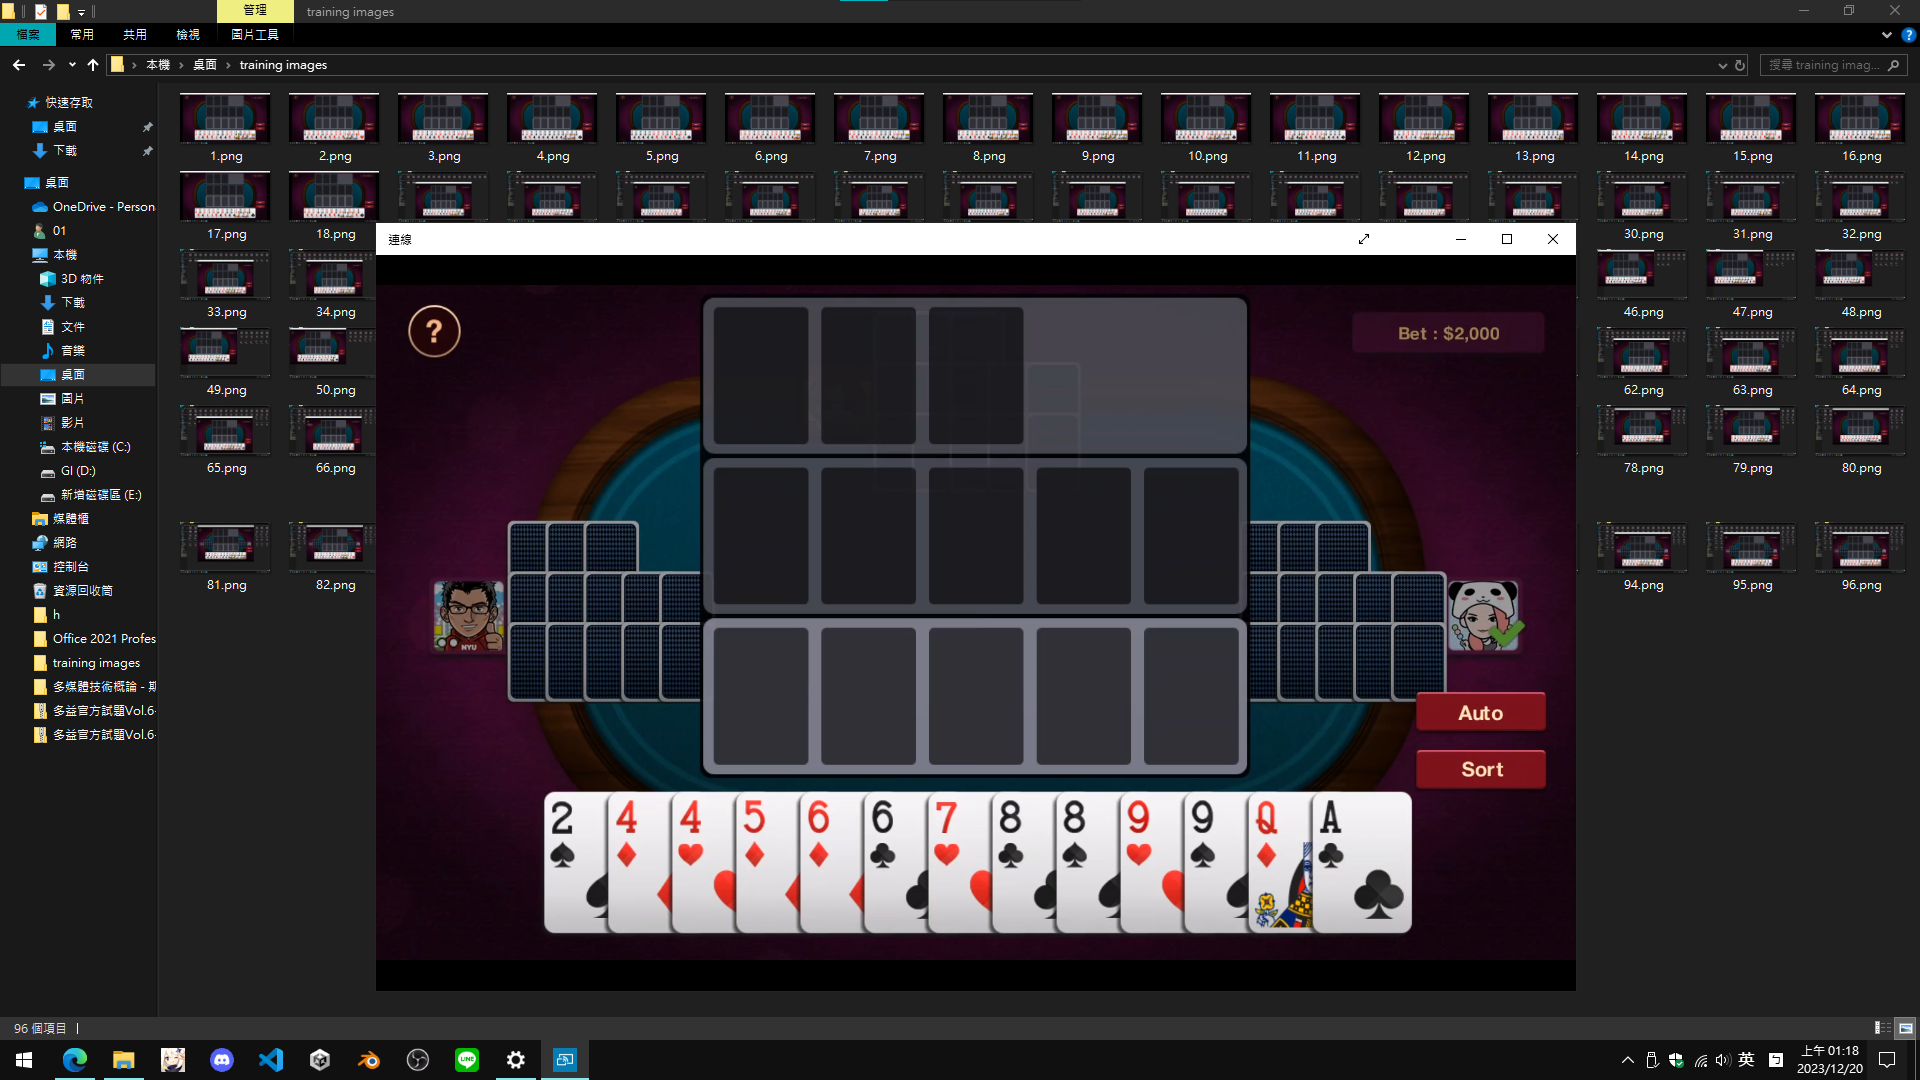2S: (549, 799, 579, 870)
4D: (612, 796, 641, 873)
4H: (675, 796, 708, 869)
5D: (740, 796, 766, 870)
6C: (868, 798, 901, 872)
6D: (806, 795, 833, 869)
7H: (932, 800, 963, 868)
8C: (997, 798, 1025, 872)
8S: (1063, 798, 1088, 870)
9H: (1124, 796, 1155, 868)
9S: (1187, 798, 1220, 870)
AC: (1317, 798, 1346, 873)
QD: (1253, 799, 1280, 872)
